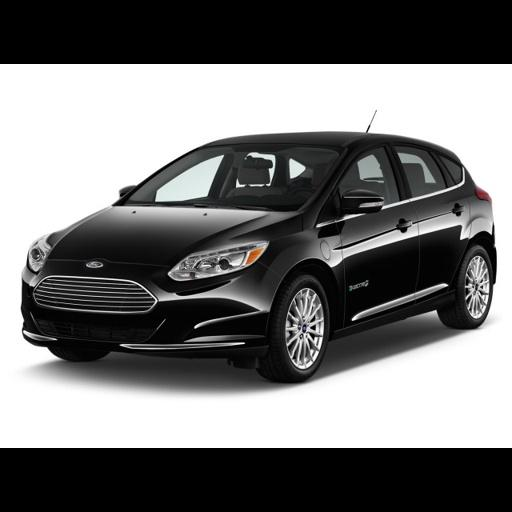hatchback: (22, 131, 496, 380)
